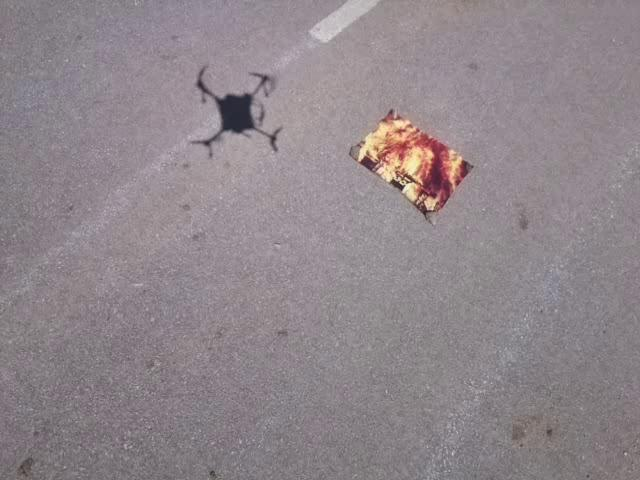fire-poster: (347, 106, 475, 226)
